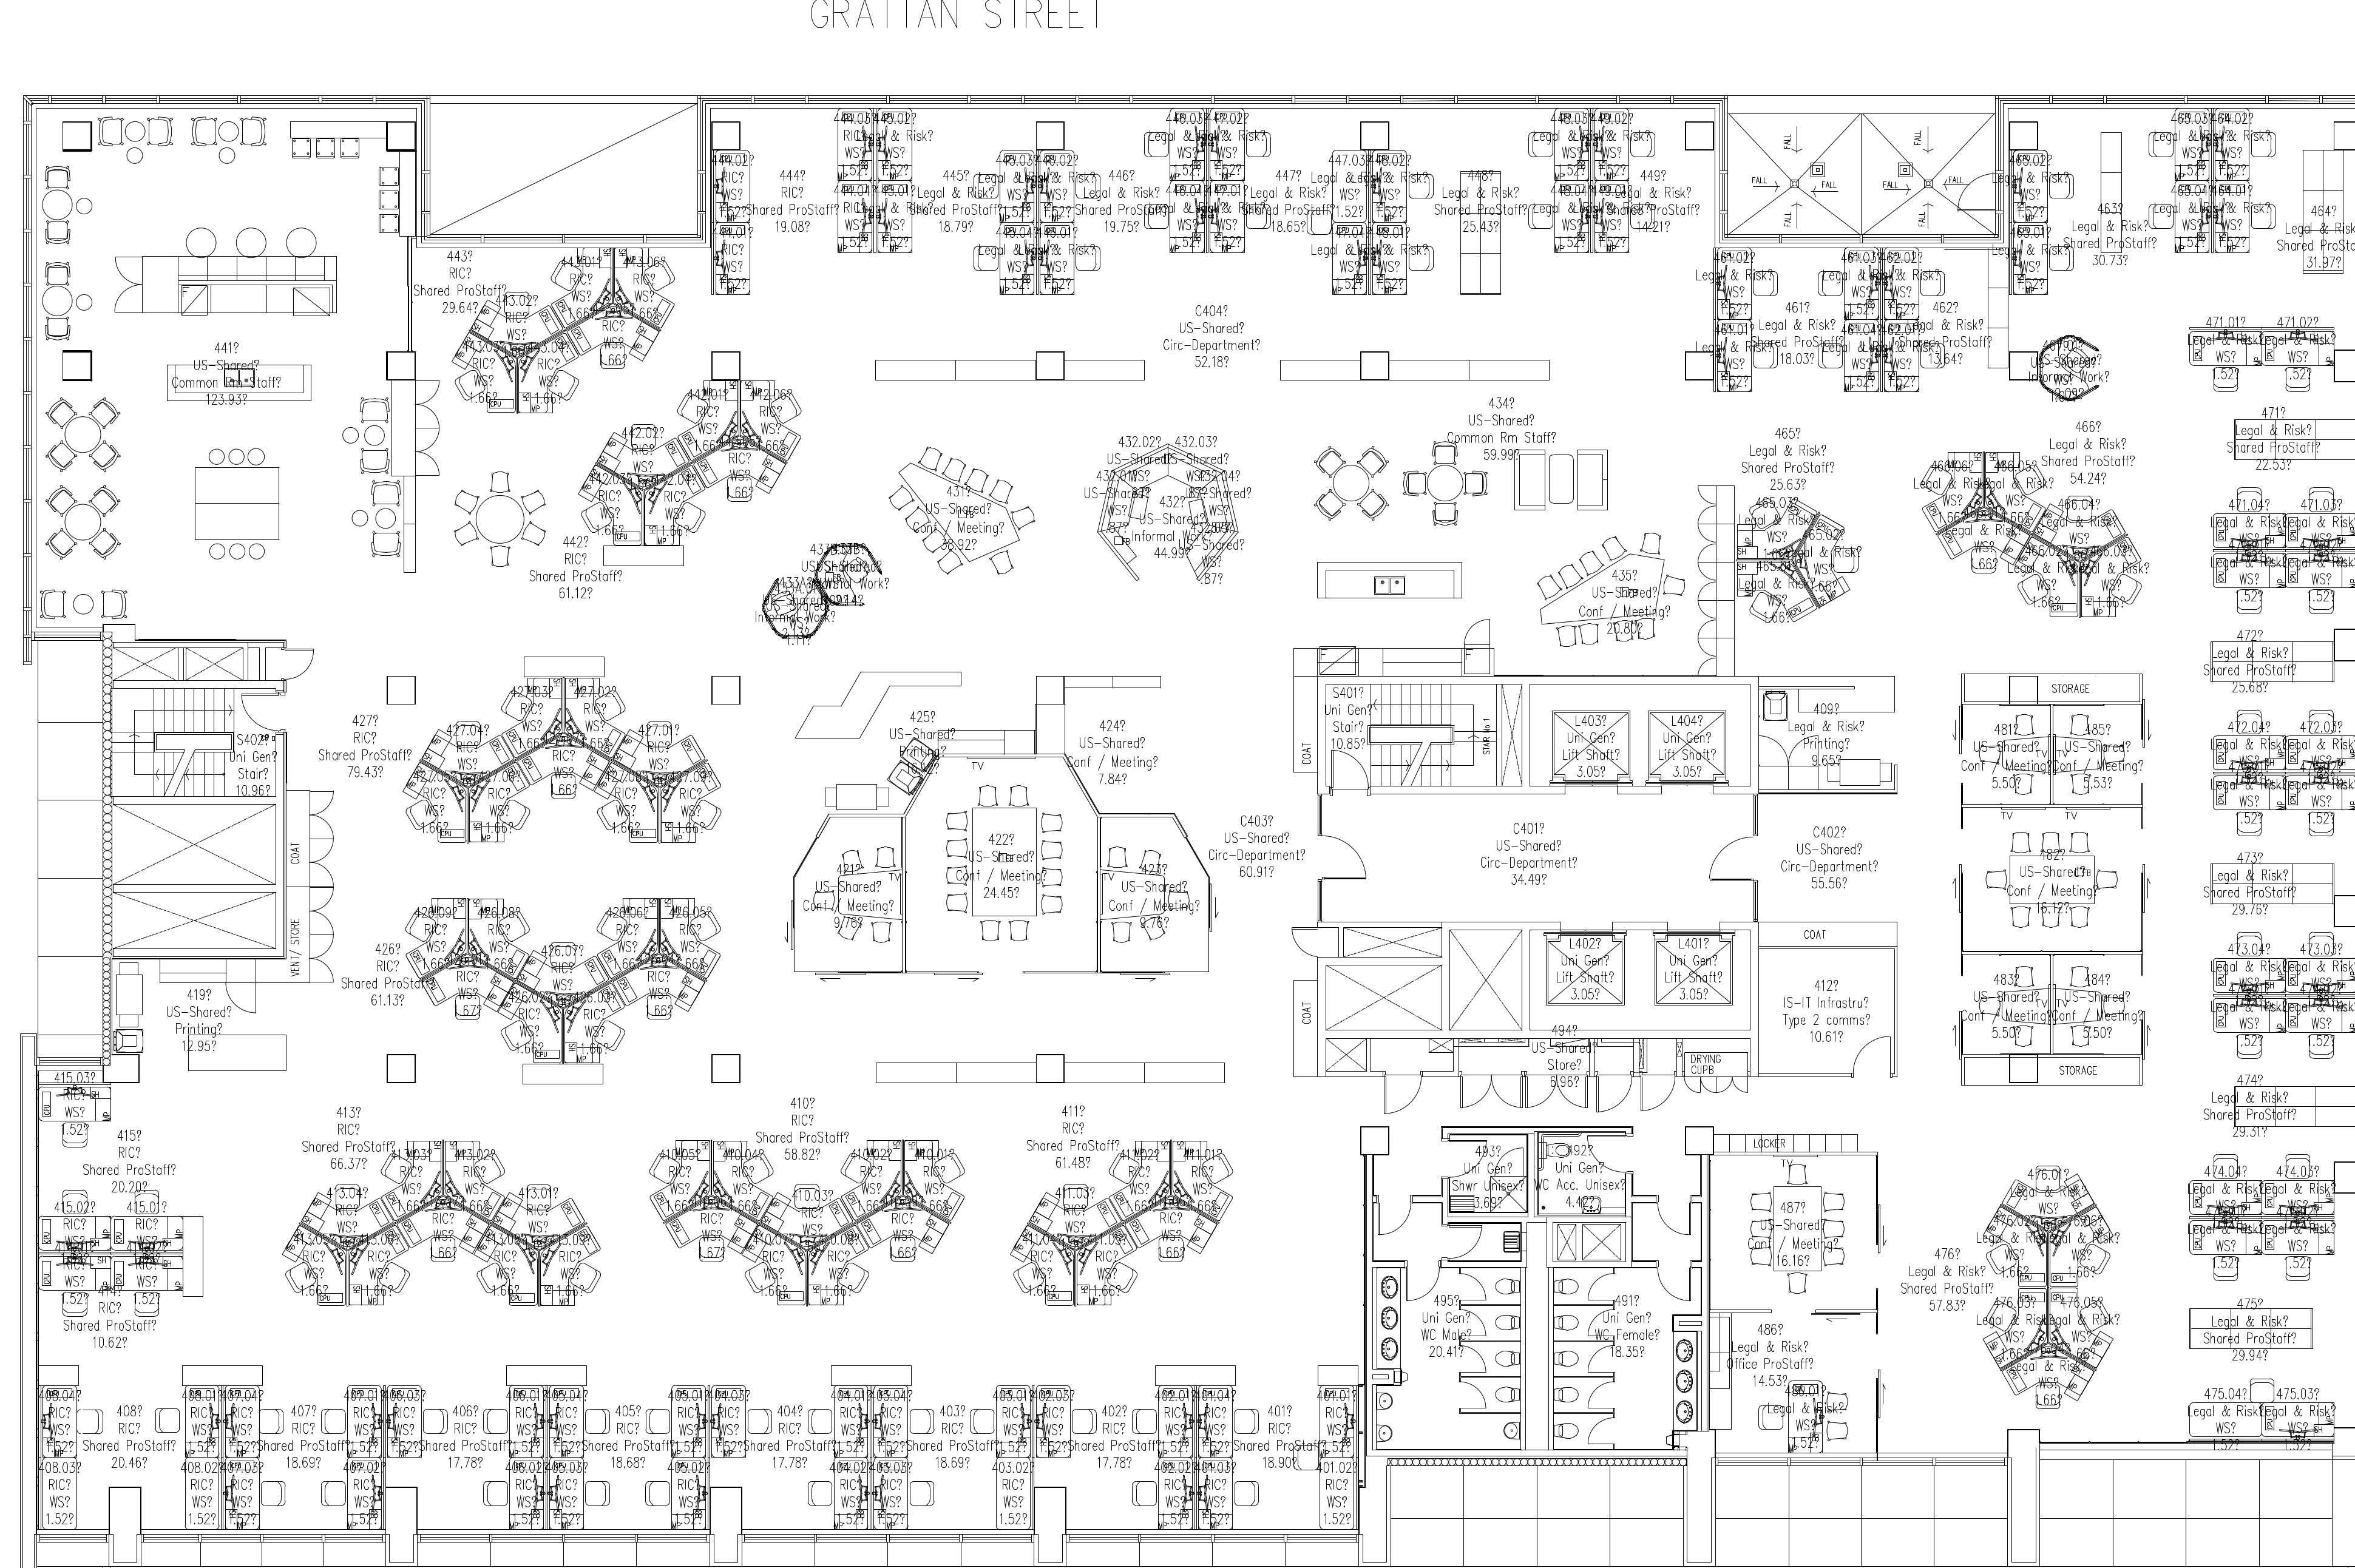room: (38, 109, 422, 625), (423, 249, 807, 598), (222, 1099, 637, 1342), (310, 886, 751, 1094), (287, 649, 747, 845), (1897, 1129, 2175, 1430), (642, 1097, 978, 1340), (987, 1097, 1270, 1340), (2182, 310, 2355, 630), (1902, 415, 2156, 632), (1323, 795, 1757, 921), (38, 1071, 215, 1363), (1286, 383, 1632, 525), (908, 758, 1102, 978), (1372, 109, 1590, 301), (2182, 628, 2355, 850), (2182, 852, 2355, 1073), (2180, 1071, 2355, 1284), (2009, 109, 2208, 296), (1492, 529, 1734, 676), (1373, 1225, 1520, 1449), (1038, 105, 1204, 301), (1205, 107, 1368, 301), (1736, 485, 1898, 677), (878, 109, 1036, 299), (710, 109, 870, 296), (35, 1367, 219, 1528), (1076, 427, 1251, 592), (1554, 1262, 1701, 1449), (548, 1363, 710, 1531), (2177, 1286, 2355, 1438), (222, 1365, 385, 1531), (383, 1363, 546, 1529), (114, 959, 308, 1095), (1034, 1363, 1195, 1528), (1198, 1363, 1358, 1528), (873, 1365, 1032, 1528), (712, 1363, 870, 1528), (1963, 808, 2142, 950), (2219, 110, 2355, 294), (1709, 1157, 1872, 1311), (114, 648, 275, 796), (1716, 250, 1879, 397), (1709, 1314, 1876, 1454), (1594, 107, 1713, 301), (801, 669, 964, 810), (1531, 684, 1748, 786), (1531, 929, 1750, 1029), (782, 816, 906, 976), (885, 445, 1038, 576), (1883, 249, 2005, 399), (1102, 817, 1219, 973), (1757, 795, 1898, 922), (747, 532, 899, 649), (1326, 684, 1496, 786), (1760, 950, 1893, 1076), (1067, 688, 1197, 812), (1758, 688, 1891, 789), (1373, 1136, 1529, 1211), (2054, 707, 2142, 801), (1965, 705, 2047, 801), (1459, 1038, 1639, 1076), (1540, 1134, 1627, 1213), (1326, 1038, 1461, 1076), (1641, 1038, 1750, 1078)
